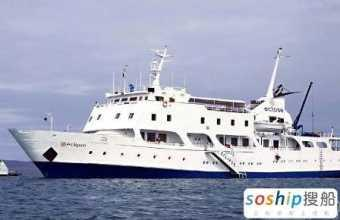otherboat: (6, 65, 340, 177)
